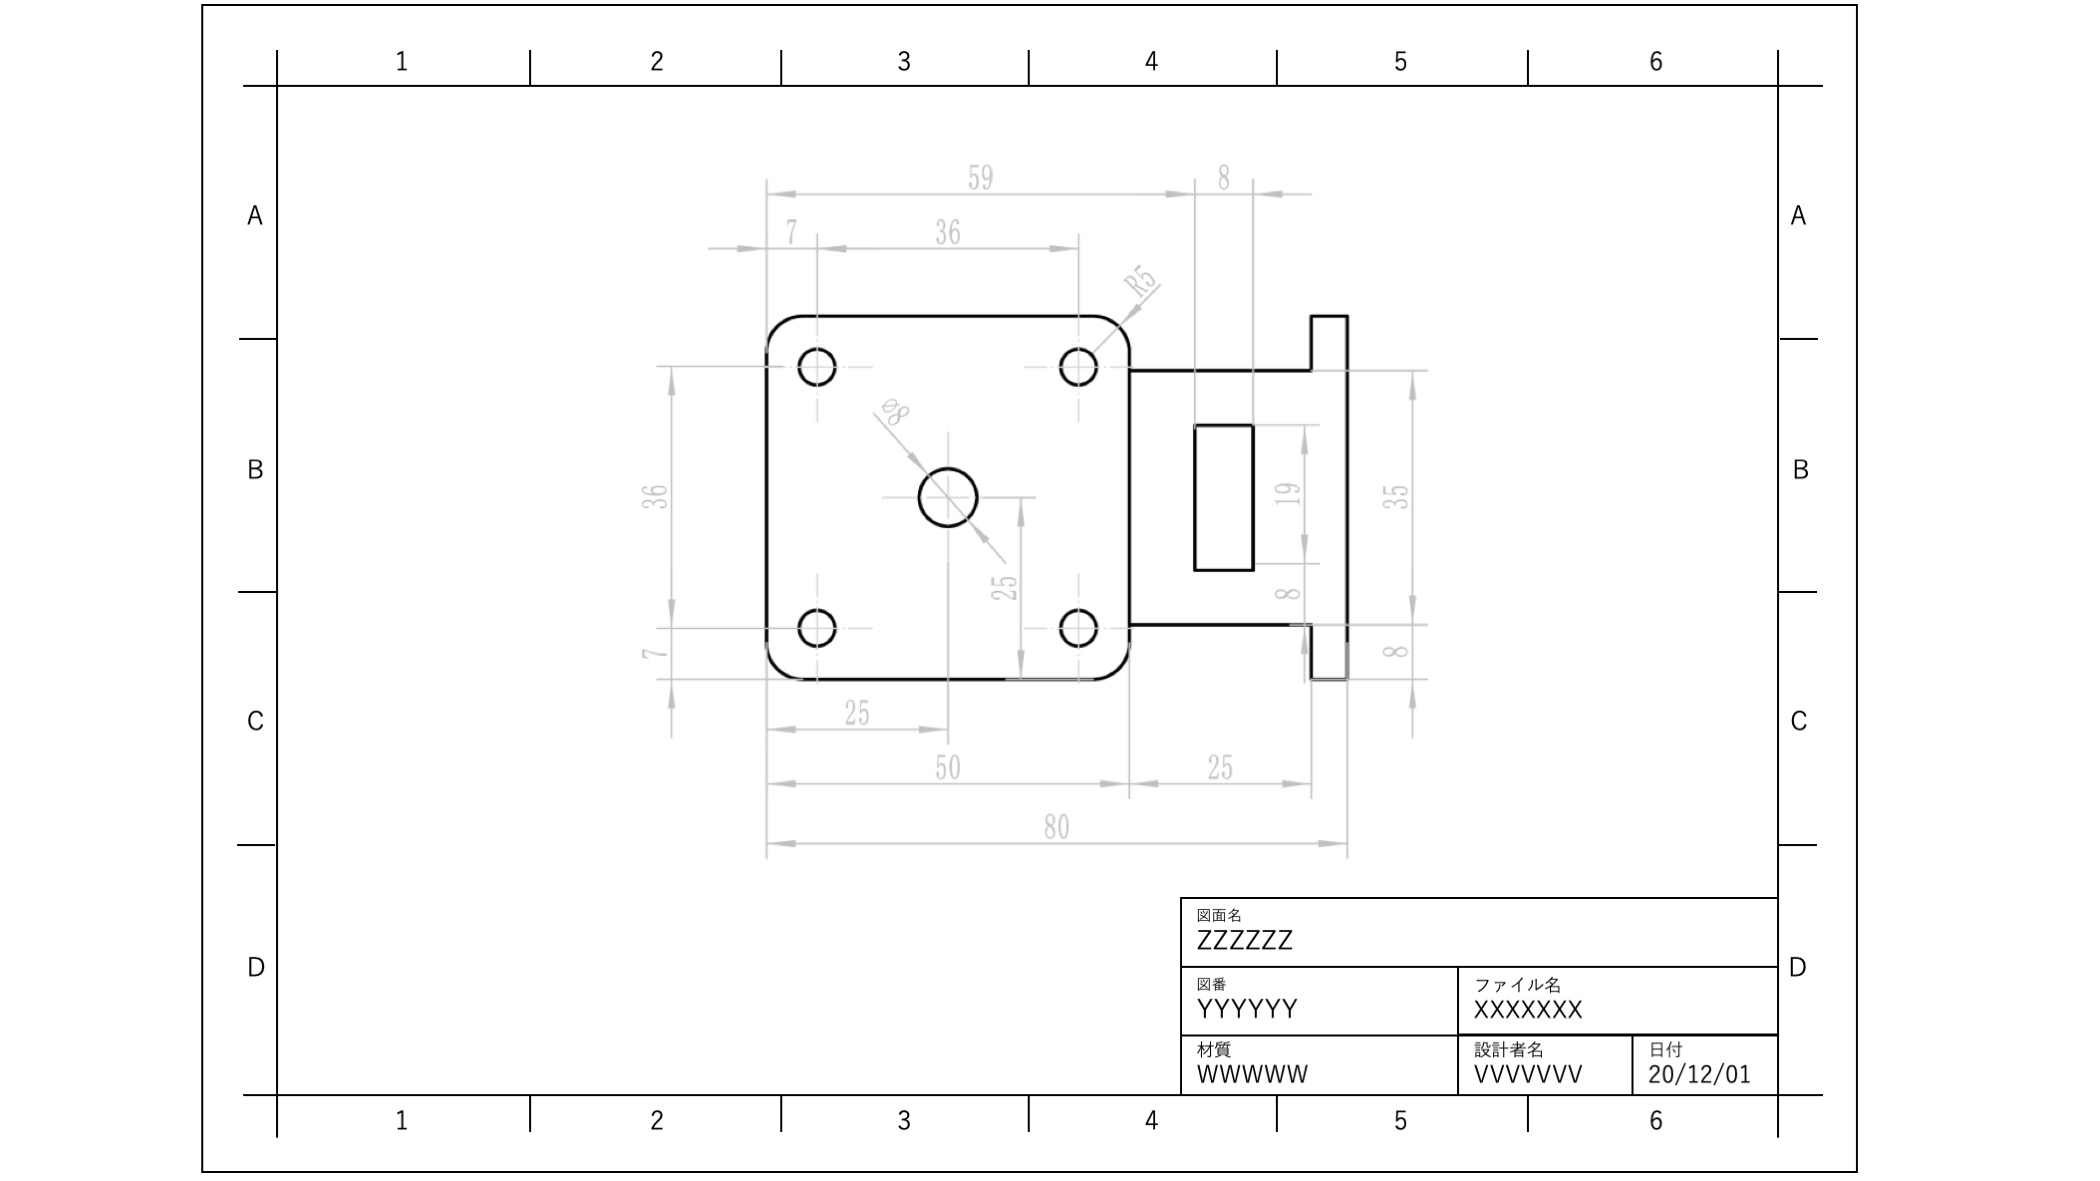circle: (913, 457, 981, 535), (787, 337, 841, 394), (1050, 601, 1103, 653), (1059, 343, 1103, 397), (790, 604, 844, 649)
rectangle: (1184, 411, 1261, 580)
